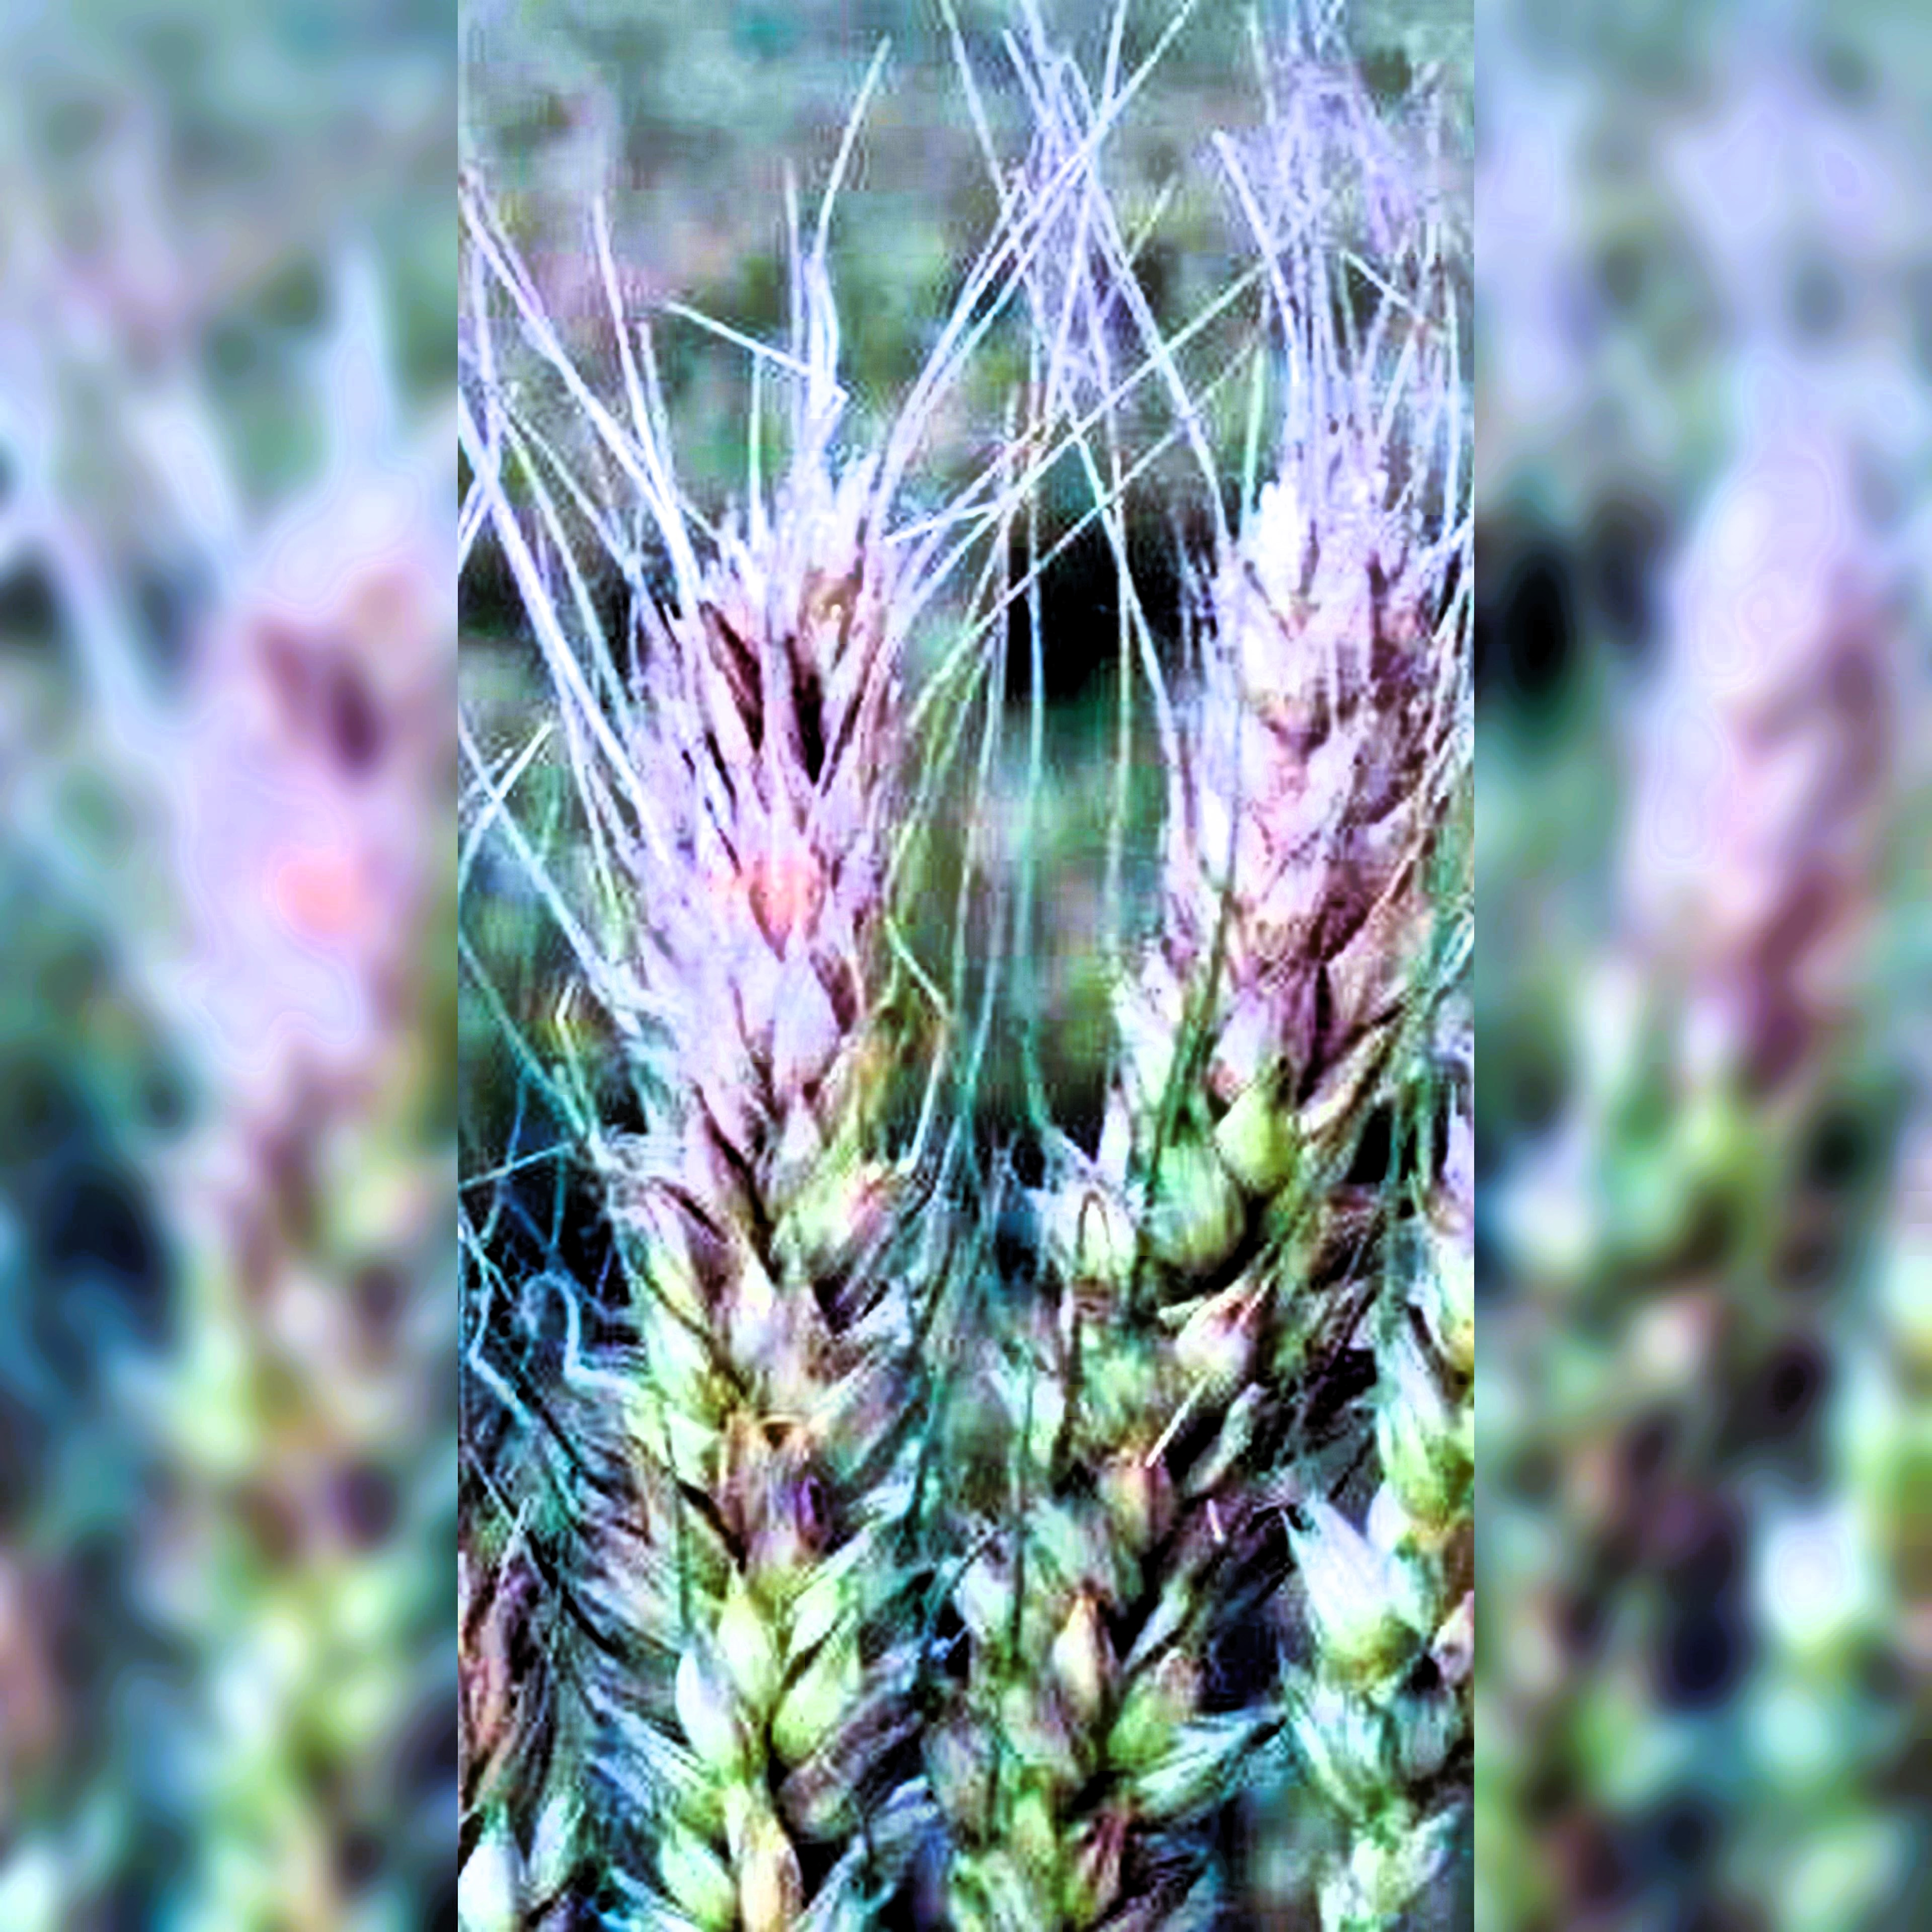Wheat scab: (1003, 435, 1518, 1500)
